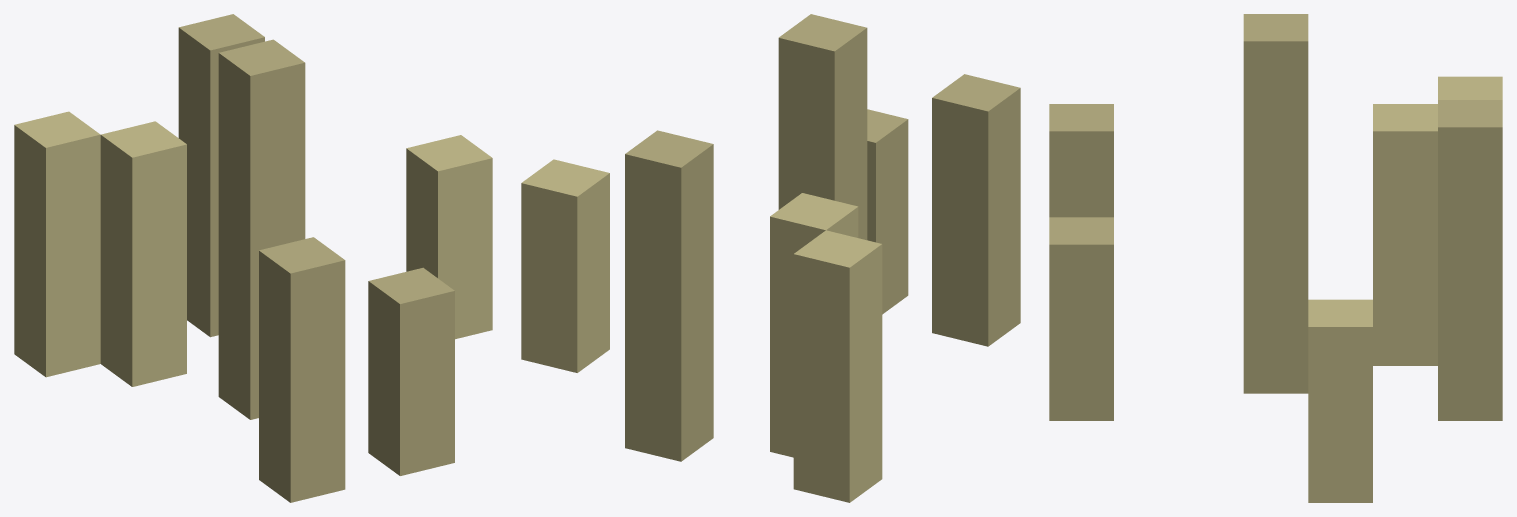
Rendered from hierba_de_estepa_03.glb.
3 renders of one model, left to right at view 1: azimuth 30°, elevation 25°; view 2: azimuth 150°, elevation 25°; view 3: azimuth 270°, elevation 25°, orthographic. The views are drawn at different scales.
Parts seen in each view (by area): view 1: hierba_de_estepa_03; view 2: hierba_de_estepa_03; view 3: hierba_de_estepa_03.
Boxes of the visible parts, x1,y1,x2,y2 form: hierba_de_estepa_03: [14, 14, 492, 502]; hierba_de_estepa_03: [521, 14, 1020, 502]; hierba_de_estepa_03: [1049, 14, 1502, 502].
Bounding box in the file's own units: 0.7 × 0.6 × 0.7.
